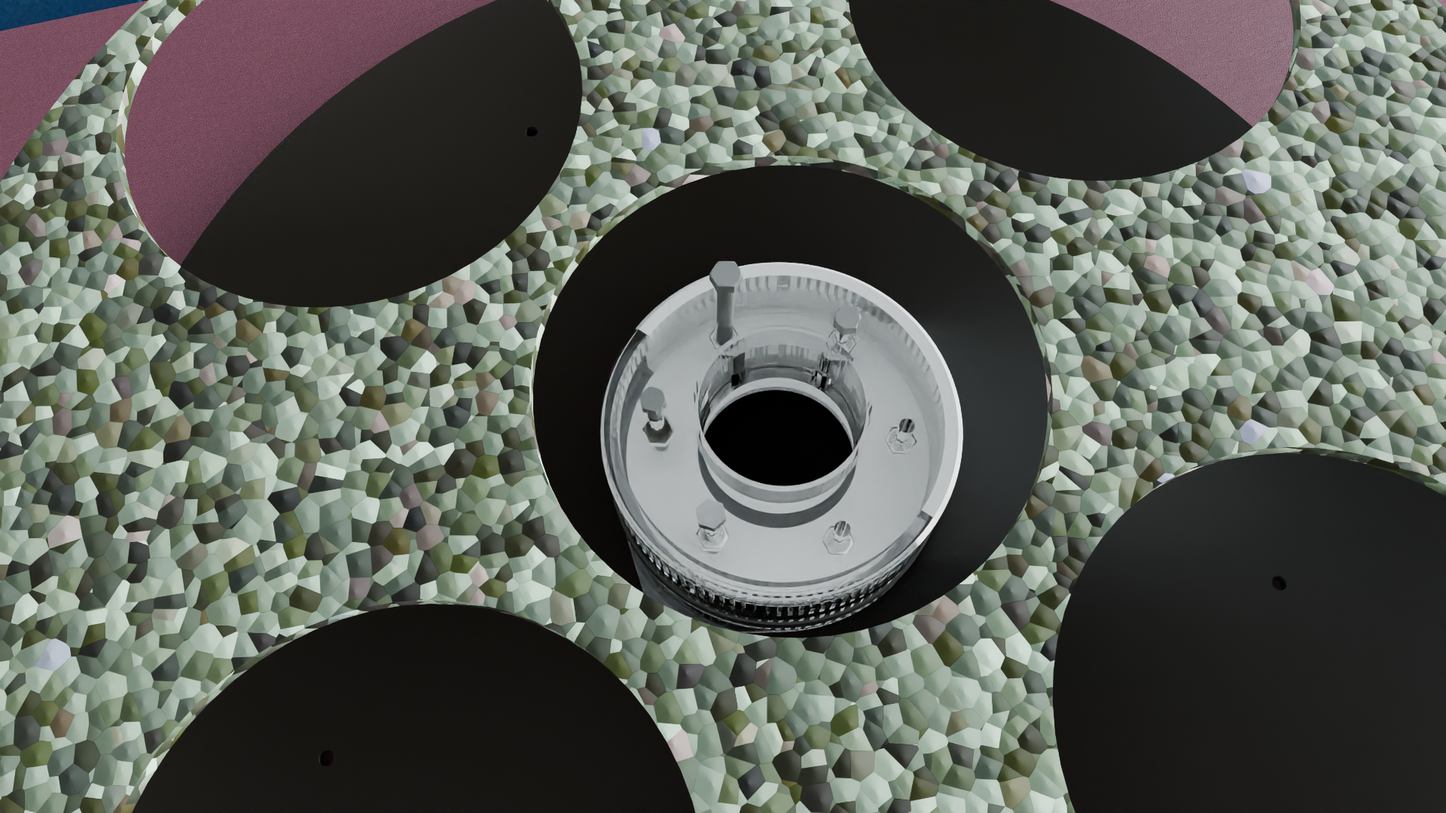bolt: (696, 498, 726, 528), (709, 261, 743, 287), (639, 386, 666, 412), (834, 307, 861, 330)
